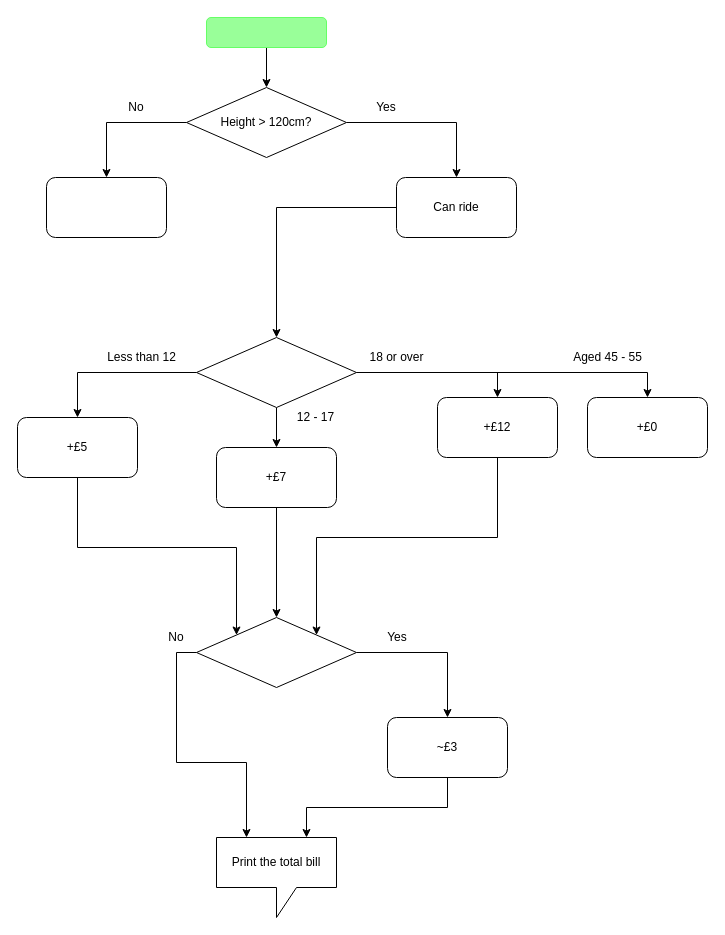
This 725x935 diagram has some shape labels left out. The centre of each missing label's shape, as x and y in pixels:
"age" goes at [276,372].
"Can`t ride" goes at [106,207].
"Start" goes at [266,32].
"Want Photo?" goes at [276,652].
